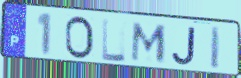1: (36, 12, 53, 58)
I: (209, 26, 223, 72)
J: (171, 26, 198, 67)
L: (101, 17, 128, 63)
M: (129, 21, 169, 64)
O: (64, 14, 95, 60)
